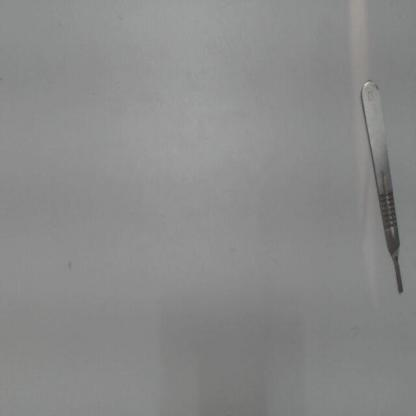No.3 BP Handle: (352, 71, 410, 307)
